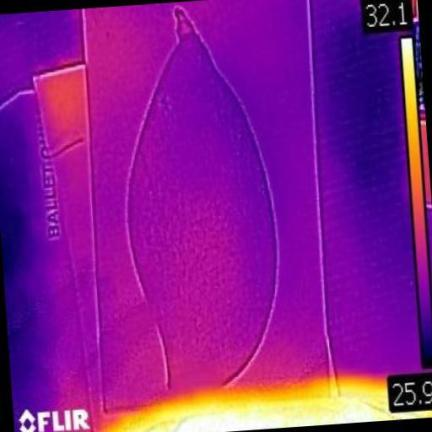mango: (127, 9, 277, 390)
